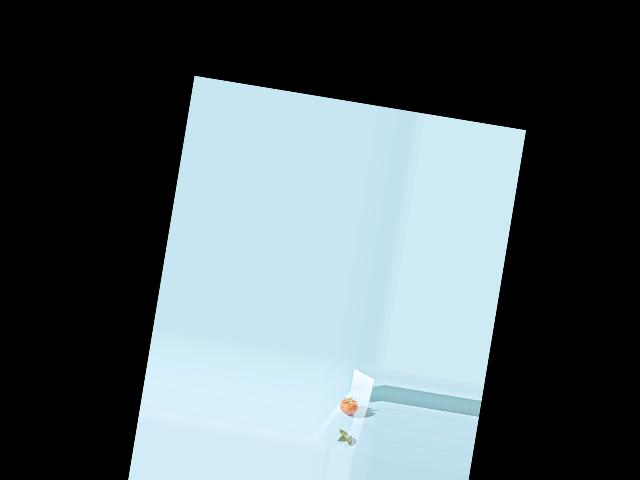tomato: (338, 396, 359, 415)
